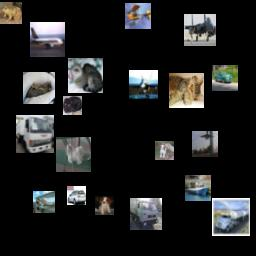airplane: (30, 22, 65, 57), (184, 14, 216, 46), (129, 70, 158, 99), (192, 131, 218, 157), (125, 3, 151, 29), (33, 191, 55, 213)
automobile: (212, 65, 238, 91), (67, 186, 86, 205)
cat: (68, 58, 103, 93), (169, 73, 204, 108), (23, 72, 55, 104), (63, 96, 82, 115)
dog: (56, 137, 91, 172), (95, 196, 114, 215), (155, 141, 174, 160)
frog: (0, 2, 22, 24)
ship: (185, 175, 211, 201)
truck: (16, 115, 54, 153), (212, 198, 250, 236), (130, 198, 162, 230)
